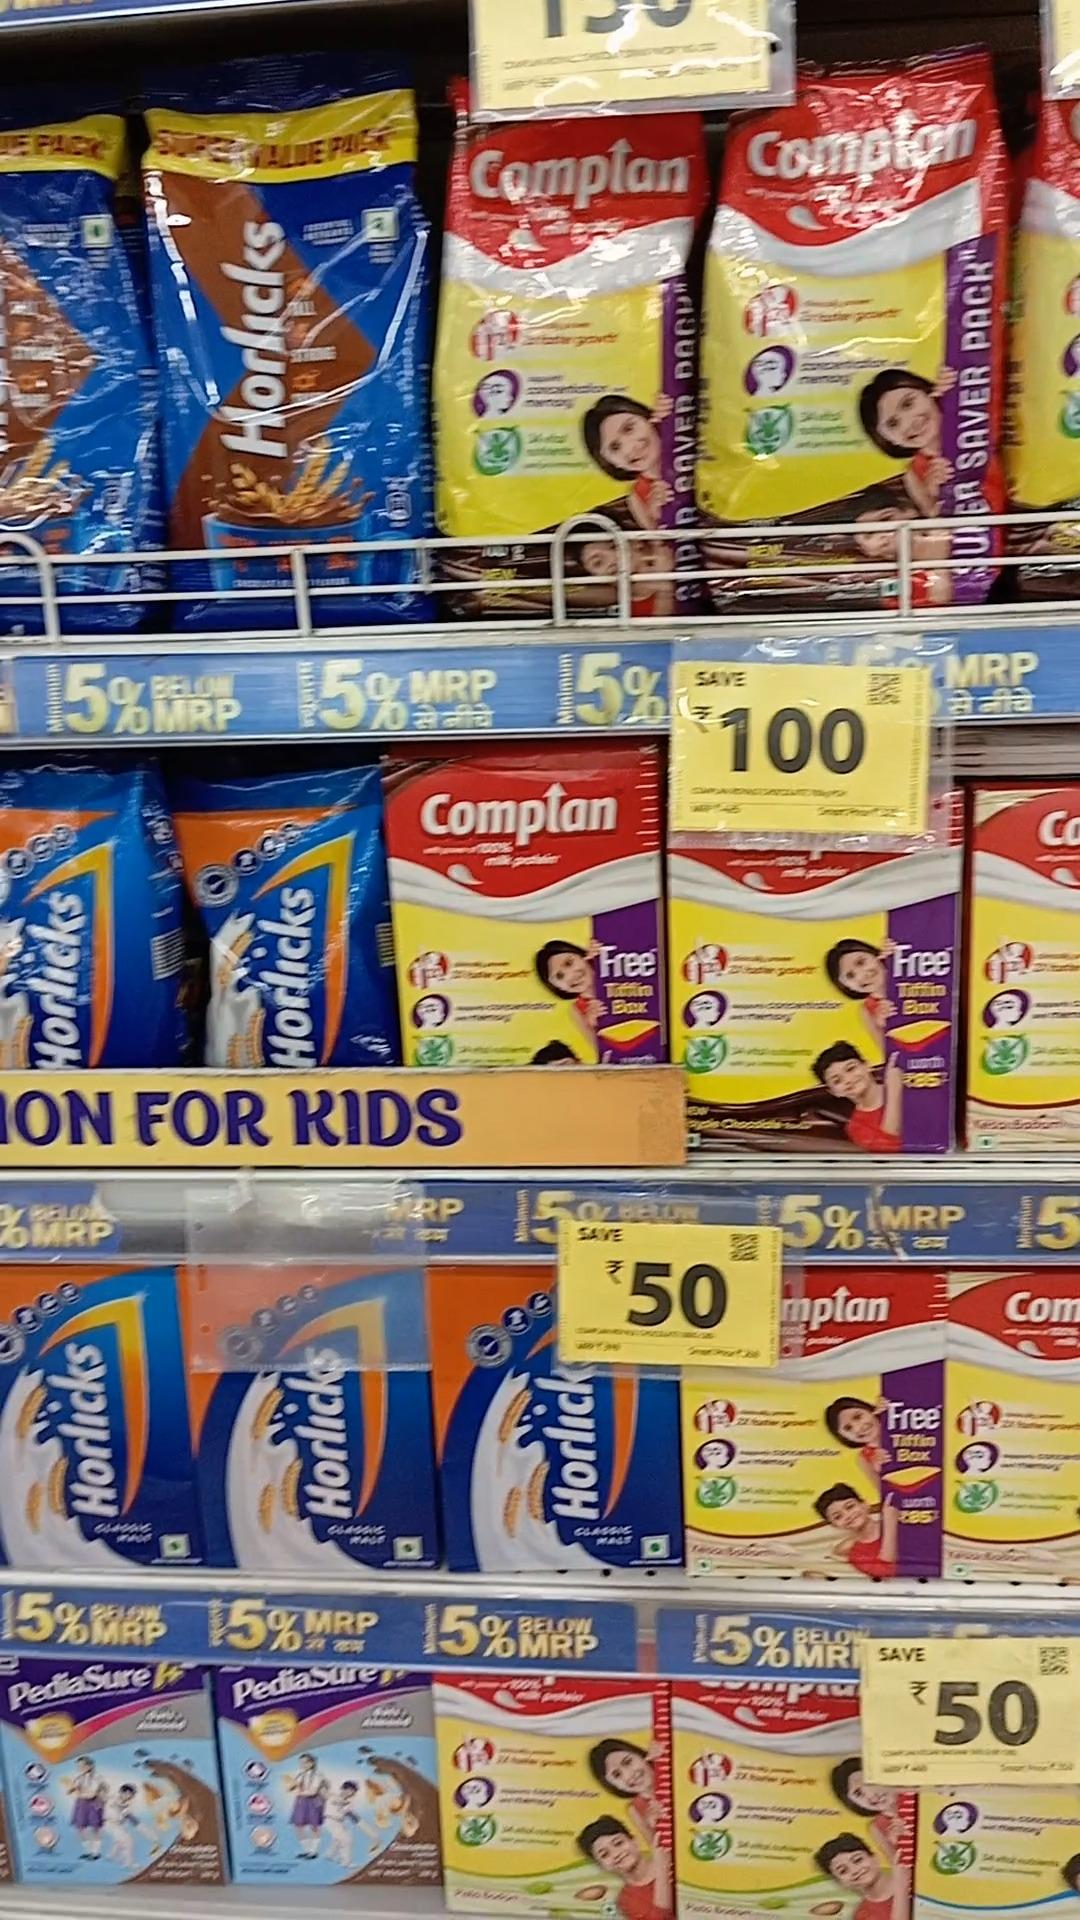COMPLAN_CHOCOLATE_500_GMS_PACK: (679, 837, 965, 1170), (410, 753, 662, 1067)
COMPLAN_KESAR_BADAM_500_GMS_PACK: (695, 1265, 943, 1582)
COMPLAN_PISTA_BADAM_500_GMS_PACK: (676, 1684, 909, 1920), (442, 1676, 667, 1919)
COMPLAN_RC_POUCH_700_GMS_12: (712, 67, 997, 611), (450, 96, 699, 615)
HORLICK_CHOCOLATE_750_G_POUCH: (144, 84, 438, 615)
HORLICK_CLASSIC_MALT_500_G_PACK: (203, 1262, 434, 1577), (446, 1329, 686, 1589), (0, 1258, 191, 1567)
HORLICK_CLASSIC_MALT_750_G_POUCH: (167, 762, 397, 1065)
PEDIASURE_7_PLUS_CHOCOLATE_400_G_PACK: (8, 1654, 222, 1894), (231, 1662, 438, 1888)
